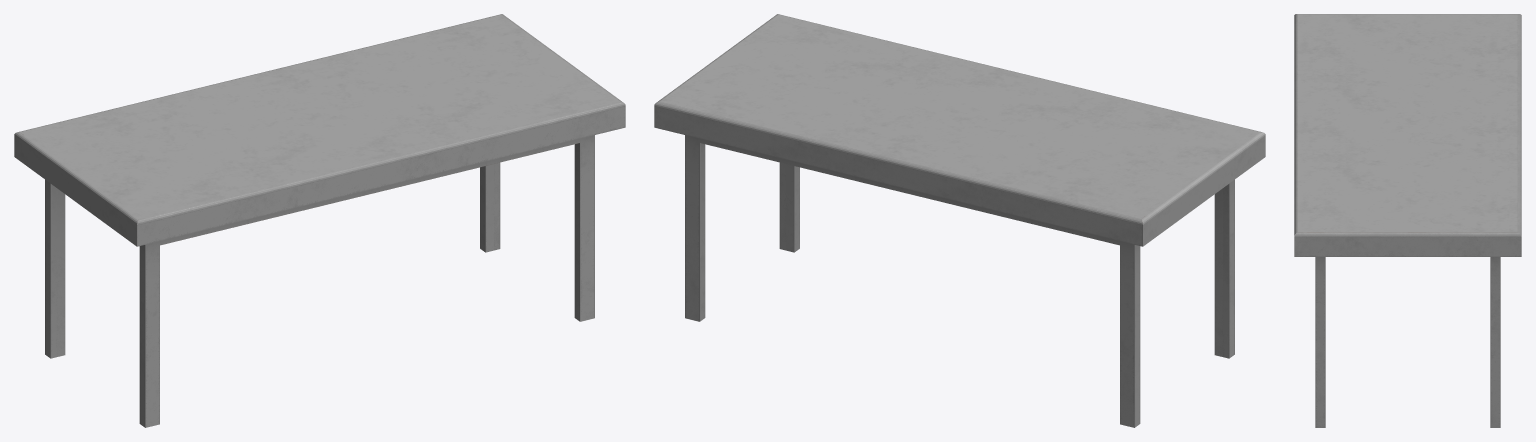
The model's file is table.fbx.
3 renders of one model, left to right at view 1: azimuth 30°, elevation 25°; view 2: azimuth 150°, elevation 25°; view 3: azimuth 270°, elevation 25°, orthographic. The views are drawn at different scales.
Visible parts, largest first — view 1: table2.001; view 2: table2.001; view 3: table2.001.
Boxes of the visible parts, x1,y1,x2,y2 form: table2.001: [14, 14, 625, 427]; table2.001: [654, 14, 1265, 427]; table2.001: [1294, 14, 1521, 427].
Bounding box in the file's own units: 459 × 197 × 200.
